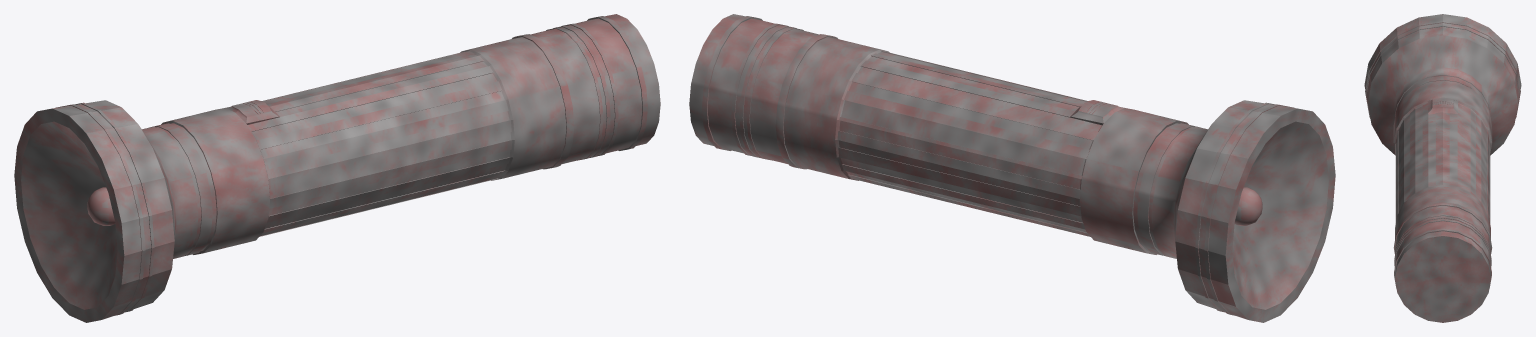
Rendered from LamparaFinal.fbx.
The picture shows the model from 3 angles, left to right: view 1: azimuth 30°, elevation 25°; view 2: azimuth 150°, elevation 25°; view 3: azimuth 270°, elevation 25°; orthographic projection. The views are drawn at different scales.
Parts seen in each view (by area): view 1: pCube2; view 2: pCube2; view 3: pCube2.
Part boxes in pixels (x1,y1,x2,y2): pCube2: (14,14,660,322); pCube2: (689,14,1335,322); pCube2: (1364,14,1521,322).
Bounding box in the file's own units: 4.68 × 1.6 × 1.6.
1 material, 1 textured.
